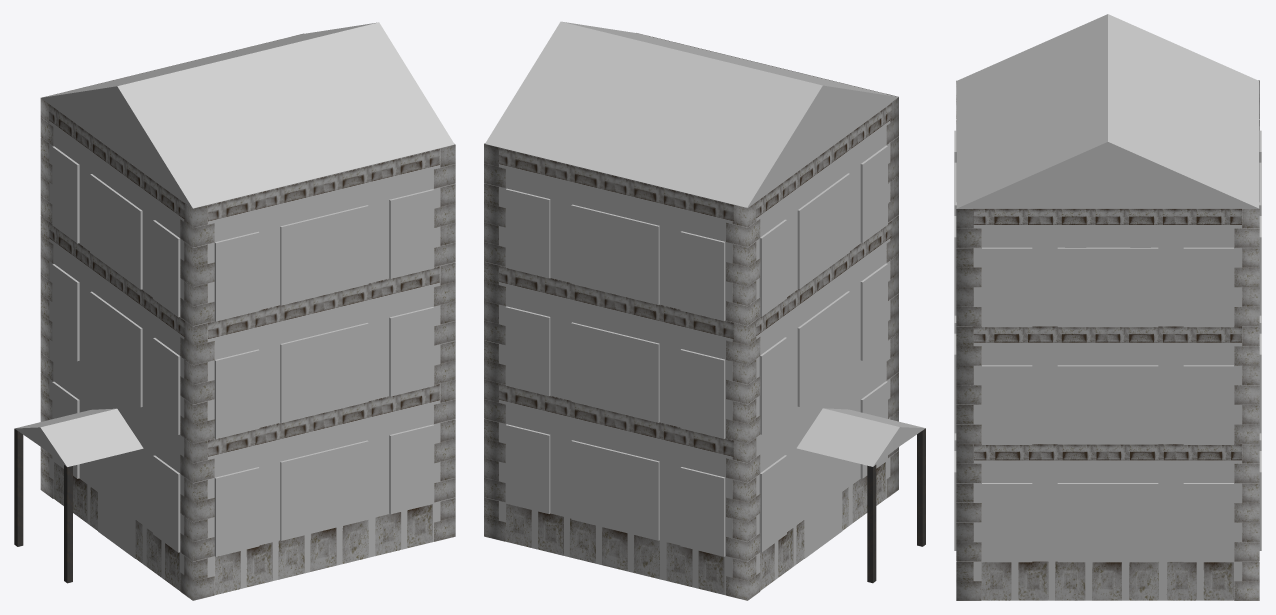
The model's file is Building_Medium_DONEbyLUCAS.fbx.
3 views of the same model, side by side, from view 1: azimuth 30°, elevation 25°; view 2: azimuth 150°, elevation 25°; view 3: azimuth 270°, elevation 25° (orthographic).
Visible parts, largest first — view 1: Apartment_Beige; view 2: Apartment_Beige; view 3: Apartment_Beige.
Part boxes in pixels (box(x1,y1,x2,y2)): Apartment_Beige: box(14, 22, 455, 600); Apartment_Beige: box(484, 21, 925, 600); Apartment_Beige: box(954, 14, 1261, 600).
Bounding box in the file's own units: 514 × 662 × 401.
